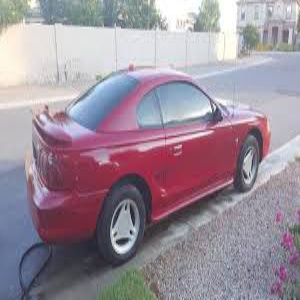door_scratch: (156, 129, 215, 204)
